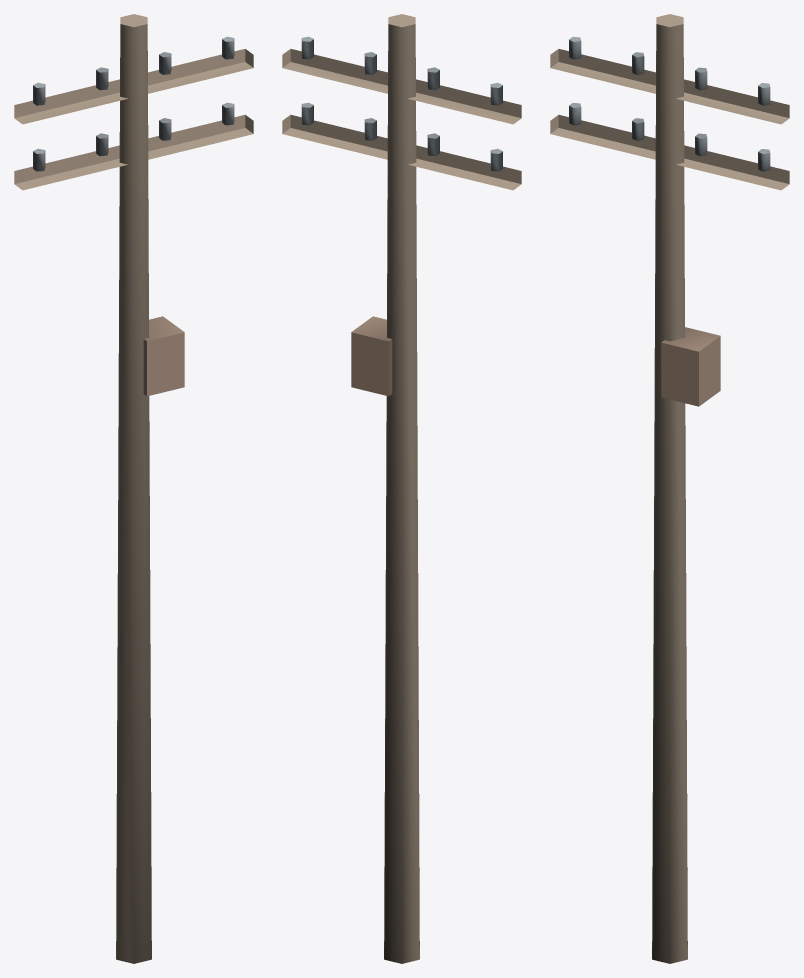
File: utility_pole.lod1.glb
3 views of the same model, side by side, from view 1: azimuth 30°, elevation 25°; view 2: azimuth 150°, elevation 25°; view 3: azimuth 330°, elevation 25° (orthographic).
Parts seen in each view (by area): view 1: props_utility_pole.lod1; view 2: props_utility_pole.lod1; view 3: props_utility_pole.lod1.
Part boxes in pixels (left/top/right/bottom): props_utility_pole.lod1: left=14, top=14, right=253, bottom=963; props_utility_pole.lod1: left=282, top=14, right=521, bottom=963; props_utility_pole.lod1: left=550, top=14, right=789, bottom=963.
Size of the model in its own units: 2.2 by 8.5 by 0.3601.
